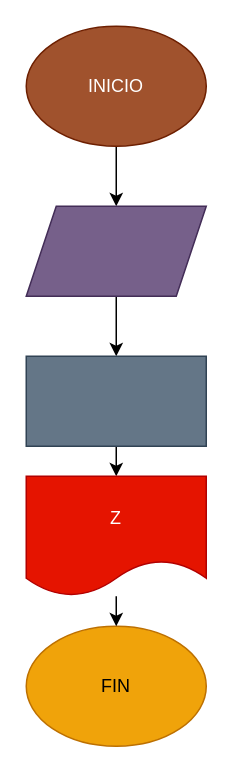
The diagram is 233 pixels wide and 773 high, and some of its shapes have lost their labels. The shapes that lost their labels are listed below. From the top down, each one's centre as x and y in pixels, then its label:
At [115,250]: "x y".
At [115,400]: "z = x ^ y".
